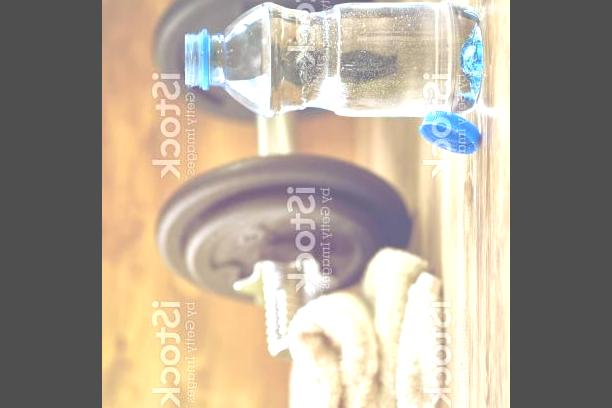bottle: (167, 0, 490, 160)
